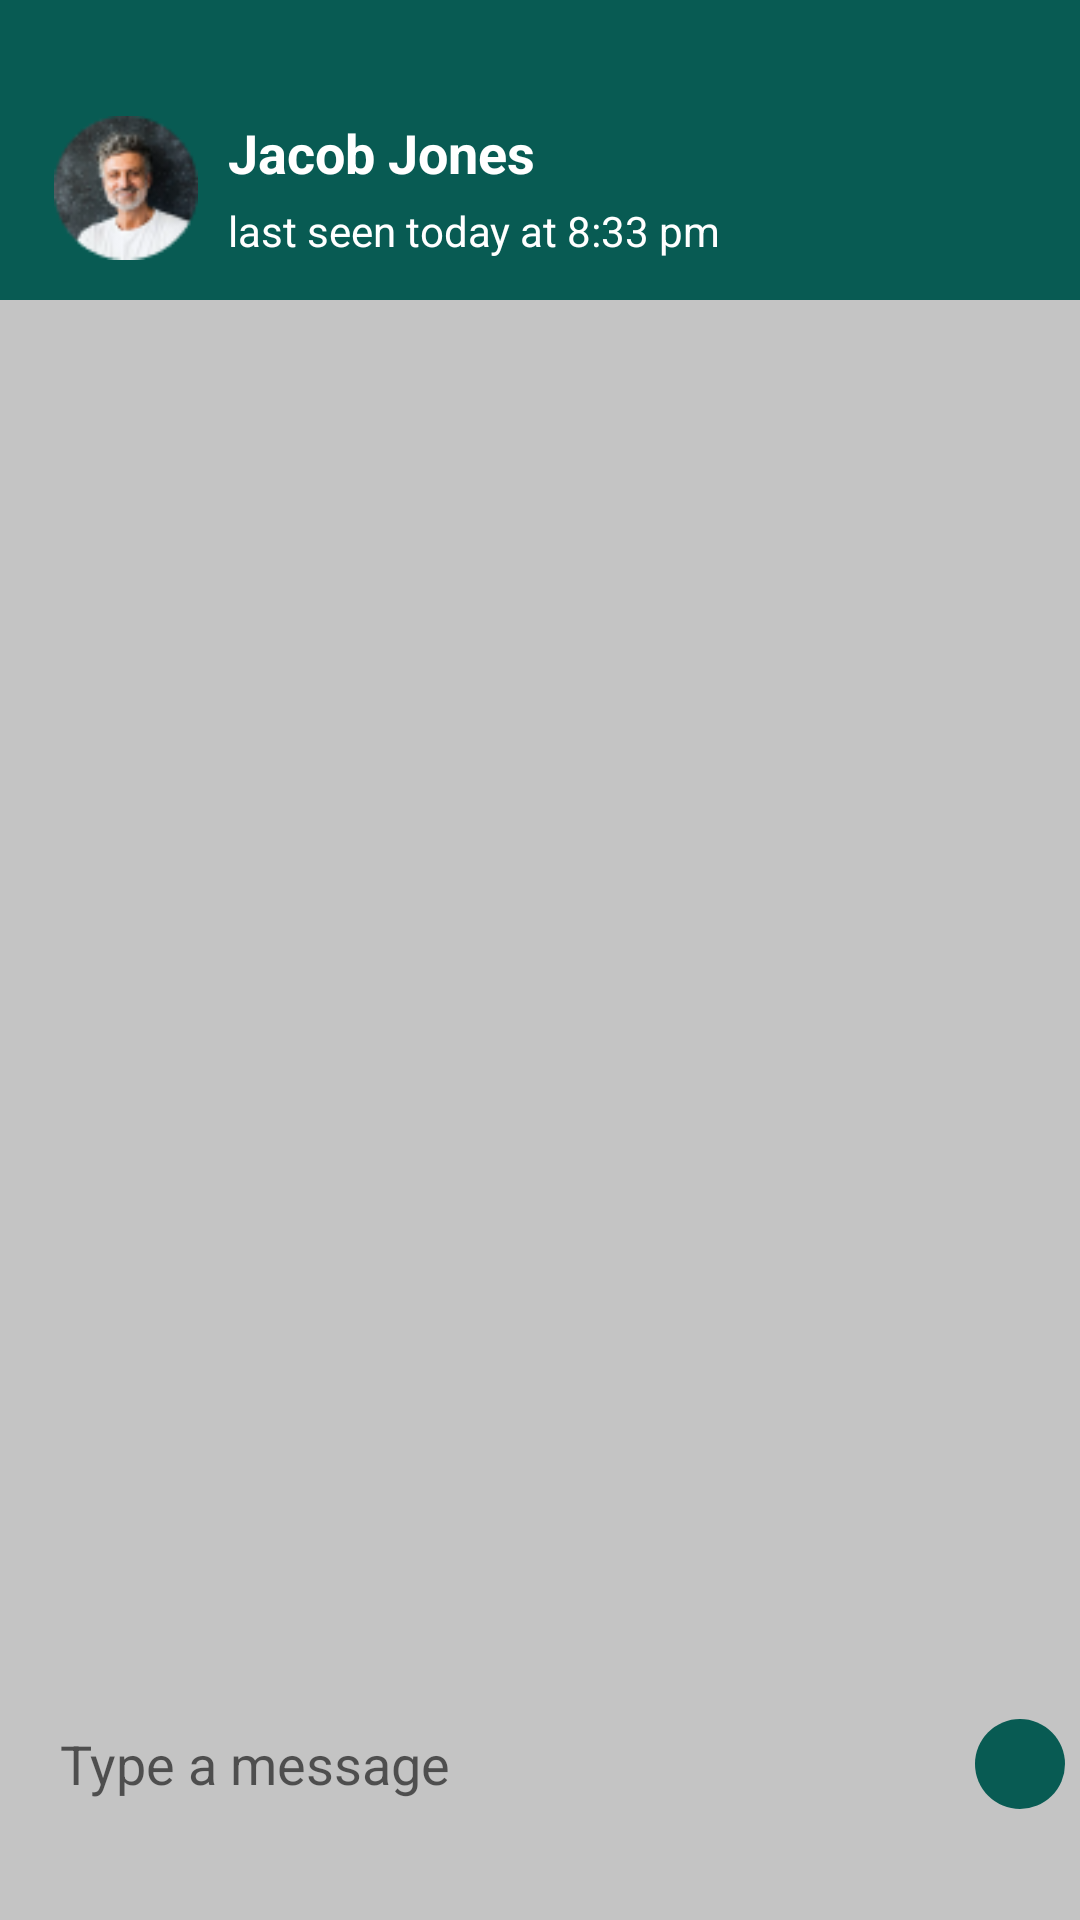

Screen size 1080×1920. Icon name, then its box in pixels as bbox=(x1, y1, x2, y2):
profile: bbox=(54, 116, 198, 260)
